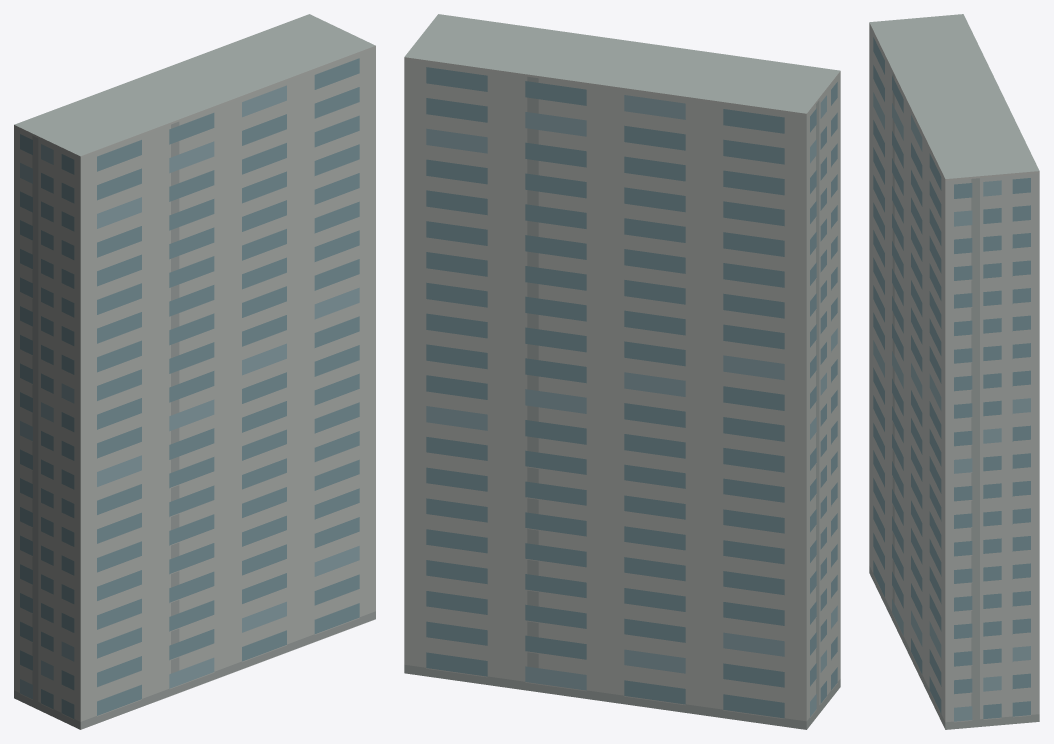
The model's file is residential-58854131-0f32-4c3d-bc91-d5083bf65d74.glb.
3 views of the same model, side by side, from view 1: azimuth 30°, elevation 25°; view 2: azimuth 150°, elevation 25°; view 3: azimuth 270°, elevation 25° (orthographic). The views are drawn at different scales.
Parts seen in each view (by area): view 1: residential-58854131-0f32-4c3d-bc91-d5083bf65d74.tmp; view 2: residential-58854131-0f32-4c3d-bc91-d5083bf65d74.tmp; view 3: residential-58854131-0f32-4c3d-bc91-d5083bf65d74.tmp.
Part boxes in pixels (x1=…): residential-58854131-0f32-4c3d-bc91-d5083bf65d74.tmp: x1=14, y1=14, x2=375, y2=729; residential-58854131-0f32-4c3d-bc91-d5083bf65d74.tmp: x1=404, y1=14, x2=840, y2=729; residential-58854131-0f32-4c3d-bc91-d5083bf65d74.tmp: x1=869, y1=14, x2=1039, y2=729.
Bounding box in the file's own units: 43.73 × 68 × 19.07.
